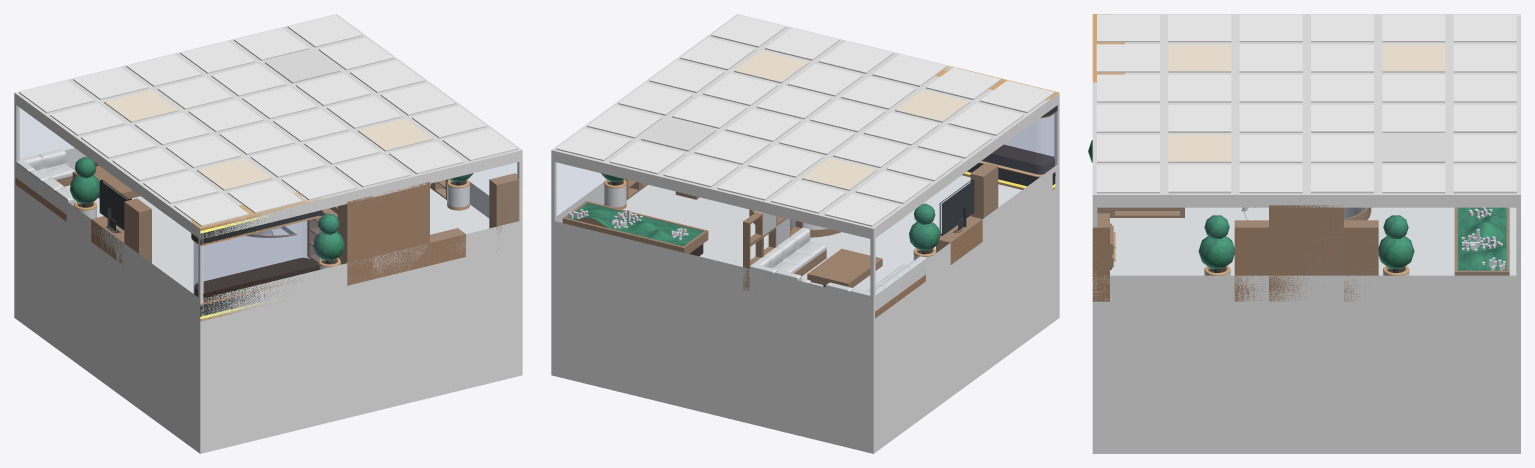
File: AppGameRoom.fbx
3 renders of one model, left to right at view 1: azimuth 30°, elevation 25°; view 2: azimuth 150°, elevation 25°; view 3: azimuth 270°, elevation 25°, orthographic. The views are drawn at different scales.
Parts seen in each view (by area): view 1: Plane, Cube, Cube.002, Circle.006, Circle.005, Cube.013, Cube.007, Circle.004, Cube.003, Cube.019, Icosphere.003, Cube.008 (+6 smaller); view 2: Plane, Cube, Cube.016, Circle.006, Cube.012, Circle.005, Cube.013, Cube.014, Cube.015, Plane.001, Cube.019, Cube.018 (+2 smaller); view 3: Plane, Cube, Cube.009, Cube.016, Cube.010, Cube.011, Cube.003, Icosphere.004, Icosphere.005, Cube.005, Circle.004.
Part boxes in pixels (left/top/right/bottom): Plane: left=14, top=14, right=522, bottom=321; Cube: left=14, top=170, right=522, bottom=453; Cube.002: left=373, top=182, right=429, bottom=279; Circle.006: left=194, top=218, right=319, bottom=296; Circle.005: left=193, top=257, right=319, bottom=321; Cube.013: left=15, top=149, right=76, bottom=221; Cube.007: left=340, top=196, right=373, bottom=285; Circle.004: left=191, top=192, right=322, bottom=245; Cube.003: left=489, top=173, right=519, bottom=240; Cube.019: left=124, top=198, right=151, bottom=263; Icosphere.003: left=313, top=213, right=344, bottom=264; Cube.008: left=430, top=228, right=465, bottom=265; Plane: left=551, top=14, right=1059, bottom=321; Cube: left=551, top=175, right=1059, bottom=453; Cube.016: left=562, top=201, right=708, bottom=256; Circle.006: left=982, top=114, right=1054, bottom=174; Cube.012: left=749, top=227, right=826, bottom=283; Circle.005: left=962, top=144, right=1055, bottom=189; Cube.013: left=825, top=256, right=926, bottom=318; Cube.014: left=743, top=211, right=803, bottom=290; Cube.015: left=807, top=248, right=882, bottom=287; Plane.001: left=939, top=179, right=974, bottom=235; Cube.019: left=970, top=163, right=998, bottom=218; Cube.018: left=936, top=216, right=982, bottom=264; Plane: left=1092, top=14, right=1520, bottom=301; Cube: left=1092, top=207, right=1520, bottom=453; Cube.009: left=1269, top=205, right=1343, bottom=301; Cube.016: left=1454, top=207, right=1509, bottom=275; Cube.010: left=1234, top=220, right=1268, bottom=301; Cube.011: left=1344, top=220, right=1378, bottom=301; Cube.003: left=1092, top=213, right=1109, bottom=301; Icosphere.004: left=1198, top=215, right=1234, bottom=272; Icosphere.005: left=1378, top=215, right=1414, bottom=272; Cube.005: left=1110, top=207, right=1184, bottom=217; Circle.004: left=1092, top=14, right=1124, bottom=82.
Bounding box in the file's own units: 3036 × 1996 × 3006.
Materials: 18 (2 with a texture image).
